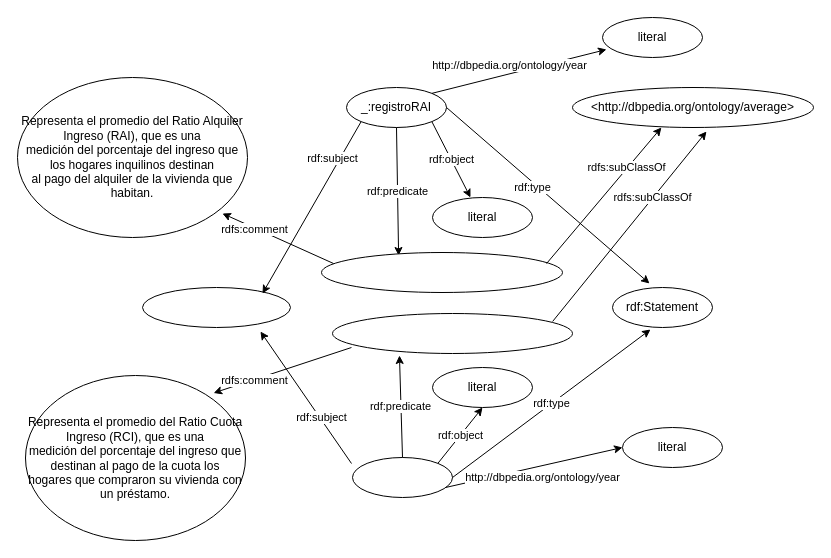
This 831x558 diagram has some shape labels left out. Here are the shapes that lost their labels. From the top down, the centre of each, then its label:
At (441,272): "idatos:rentalToIncomeRatioAverage".
At (216,307): "wikidata:deparamento".
At (452,333): "idatos:mortgageToIncomeRatioAverage".
At (402,477): "_:registroRCI".
